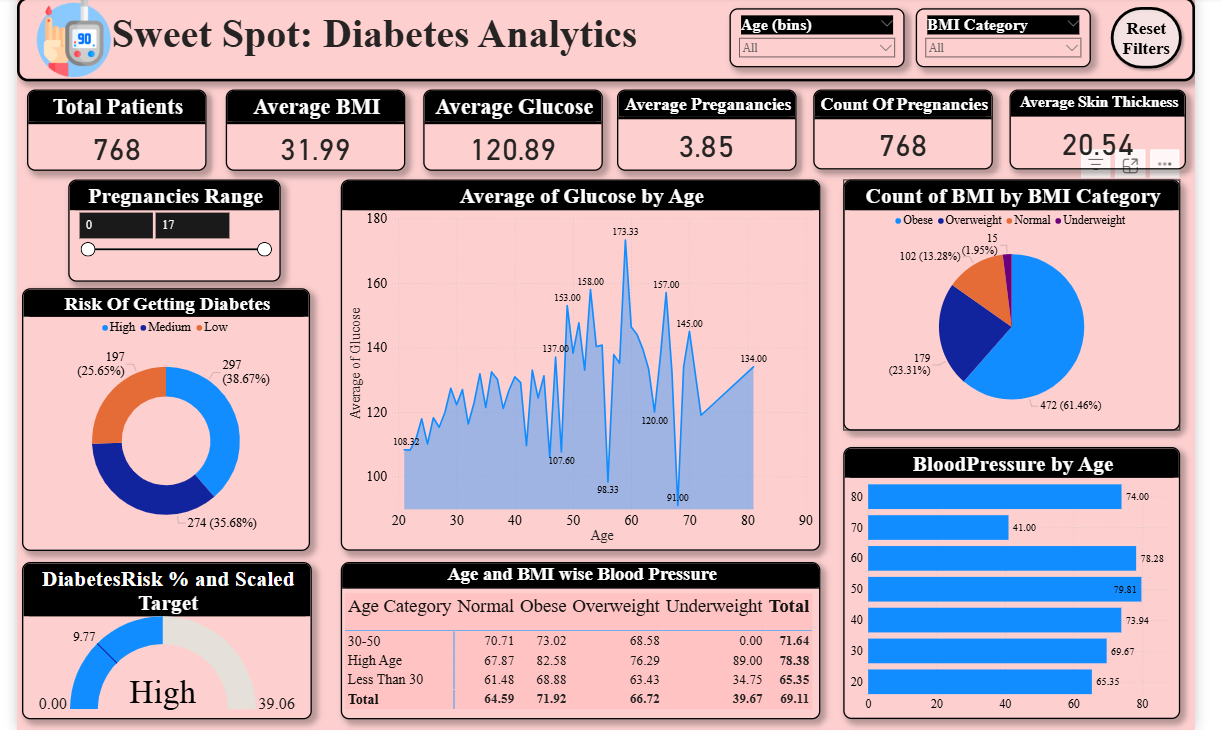

Layout of this report page (visuals, bound fields, positions):
{"tool":"powerbi","page":{"name":"Diabetes Analytics Dashboard","canvas":[2120,1320],"ordinal":0},"visuals":[{"type":"slicer","fields":{"Values":["diabetes new.Age (bins)"]},"box":[1283.2,19.8,314.9,106.6],"z":0,"group":"g1"},{"type":"pieChart","fields":{"Category":["diabetes new.BMI Category"],"Y":["CountNonNull(diabetes new.BMI)"]},"box":[1487.2,329.5,606.6,452],"z":0},{"type":"slicer","fields":{"Values":["diabetes new.BMI Category"]},"box":[1618,19.8,314.9,106.6],"z":1000,"group":"g1"},{"type":"gauge","fields":{"Y":["diabetes new.DiabetesRisk %"],"TargetValue":["diabetes new.Scaled Target"]},"box":[8.7,1017.7,522,282.9],"z":1000},{"type":"image","box":[-8.7,0,221.7,148.7],"z":2000,"group":"g1"},{"type":"card","title":"Average Glucose","fields":{"Values":["Avg(diabetes new.Glucose)"]},"box":[731.6,167.2,323,146.6],"z":2000,"group":"g2"},{"type":"lineChart","fields":{"Category":["diabetes new.Age"],"Y":["Avg(diabetes new.Glucose)"]},"box":[583.2,329.5,863.2,667.8],"z":2000},{"type":"card","title":"Average BMI","fields":{"Values":["Avg(diabetes new.BMI)"]},"box":[376.3,167.2,323,146.6],"z":3000,"group":"g2"},{"type":"clusteredBarChart","title":"BloodPressure by Age","fields":{"Y":["Avg(diabetes new.BloodPressure (mg/dL))"],"Category":["diabetes new.Age (bins)"]},"box":[1487.2,810.7,606.6,489.9],"z":3000},{"type":"slicer","title":"Pregnancies Range","fields":{"Values":["diabetes new.Pregnancies"]},"box":[93.3,329.5,382,183.7],"z":4000},{"type":"textbox","box":[0,0,2120,151.6],"z":5000},{"type":"donutChart","title":"Risk Of Getting Diabetes","fields":{"Y":["diabetes new.PatientCounts"],"Category":["diabetes new.Diabetes Risk"]},"box":[8.5,524.4,518.7,473.1],"z":6000},{"type":"group","id":"g1","title":"Group 1","box":[-8.7,0,2114.2,148.7],"z":7000},{"type":"pivotTable","title":"Age and BMI wise Blood Pressure","fields":{"Rows":["diabetes new.Age Category"],"Columns":["diabetes new.BMI Category"],"Values":["Avg(diabetes new.BloodPressure (mg/dL))"]},"box":[583.2,1017.7,863.2,282.9],"z":8000},{"type":"group","id":"g2","title":"Group 2","box":[18.6,167.2,2086.8,146.6],"z":9000},{"type":"card","title":"Average Preganancies","fields":{"Values":["Avg(diabetes new.Pregnancies)"]},"box":[1079.4,167.2,323,146.6],"z":11000,"group":"g2"},{"type":"actionButton","box":[1959.6,9.9,145.9,128.9],"z":11002,"group":"g1"},{"type":"card","title":"Count Of Pregnancies","fields":{"Values":["CountNonNull(diabetes new.Pregnancies)"]},"box":[1434.6,167.2,323,144.1],"z":12000,"group":"g2"},{"type":"card","title":"Average Skin Thickness","fields":{"Values":["Avg(diabetes new.SkinThickness)"]},"box":[1787.4,167.2,318,144.1],"z":13000,"group":"g2"},{"type":"card","title":"Total Patients","fields":{"Values":["diabetes new.PatientCounts"]},"box":[18.6,167.2,323,146.6],"z":14000,"group":"g2"}]}

Visuals, with their boxes in screenshot pixels (x1, y1, x2, y2):
slicer - diabetes new.Age (bins): (left=723, top=14, right=895, bottom=72)
pieChart - diabetes new.BMI Category x CountNonNull(diabetes new.BMI): (left=835, top=183, right=1166, bottom=430)
slicer - diabetes new.BMI Category: (left=906, top=14, right=1078, bottom=72)
gauge - diabetes new.DiabetesRisk % x diabetes new.Scaled Target: (left=27, top=559, right=312, bottom=714)
image: (left=18, top=3, right=139, bottom=84)
"Average Glucose" card: (left=422, top=95, right=598, bottom=175)
lineChart - diabetes new.Age x Avg(diabetes new.Glucose): (left=341, top=183, right=813, bottom=548)
"Average BMI" card: (left=228, top=95, right=404, bottom=175)
"BloodPressure by Age" clusteredBarChart: (left=835, top=446, right=1166, bottom=714)
"Pregnancies Range" slicer: (left=73, top=183, right=282, bottom=284)
textbox: (left=22, top=3, right=1181, bottom=86)
"Risk Of Getting Diabetes" donutChart: (left=27, top=290, right=310, bottom=548)
"Group 1" group: (left=18, top=3, right=1173, bottom=84)
"Age and BMI wise Blood Pressure" pivotTable: (left=341, top=559, right=813, bottom=714)
"Group 2" group: (left=32, top=95, right=1173, bottom=175)
"Average Preganancies" card: (left=612, top=95, right=789, bottom=175)
actionButton: (left=1093, top=9, right=1173, bottom=79)
"Count Of Pregnancies" card: (left=806, top=95, right=983, bottom=173)
"Average Skin Thickness" card: (left=999, top=95, right=1173, bottom=173)
"Total Patients" card: (left=32, top=95, right=209, bottom=175)
